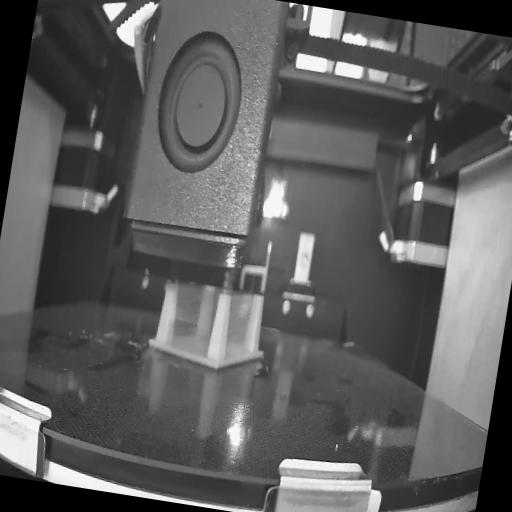stringing: (161, 272, 222, 362), (222, 286, 260, 364)
